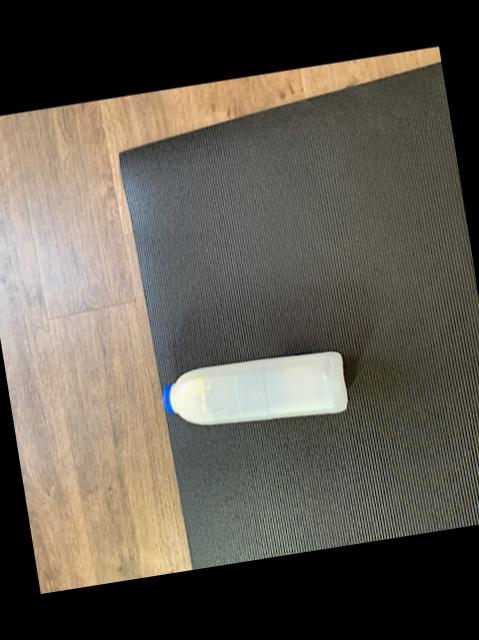plastic: (165, 353, 348, 425)
